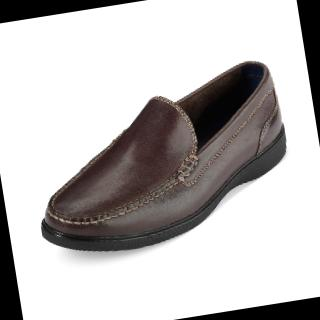loafers: (16, 54, 309, 274)
